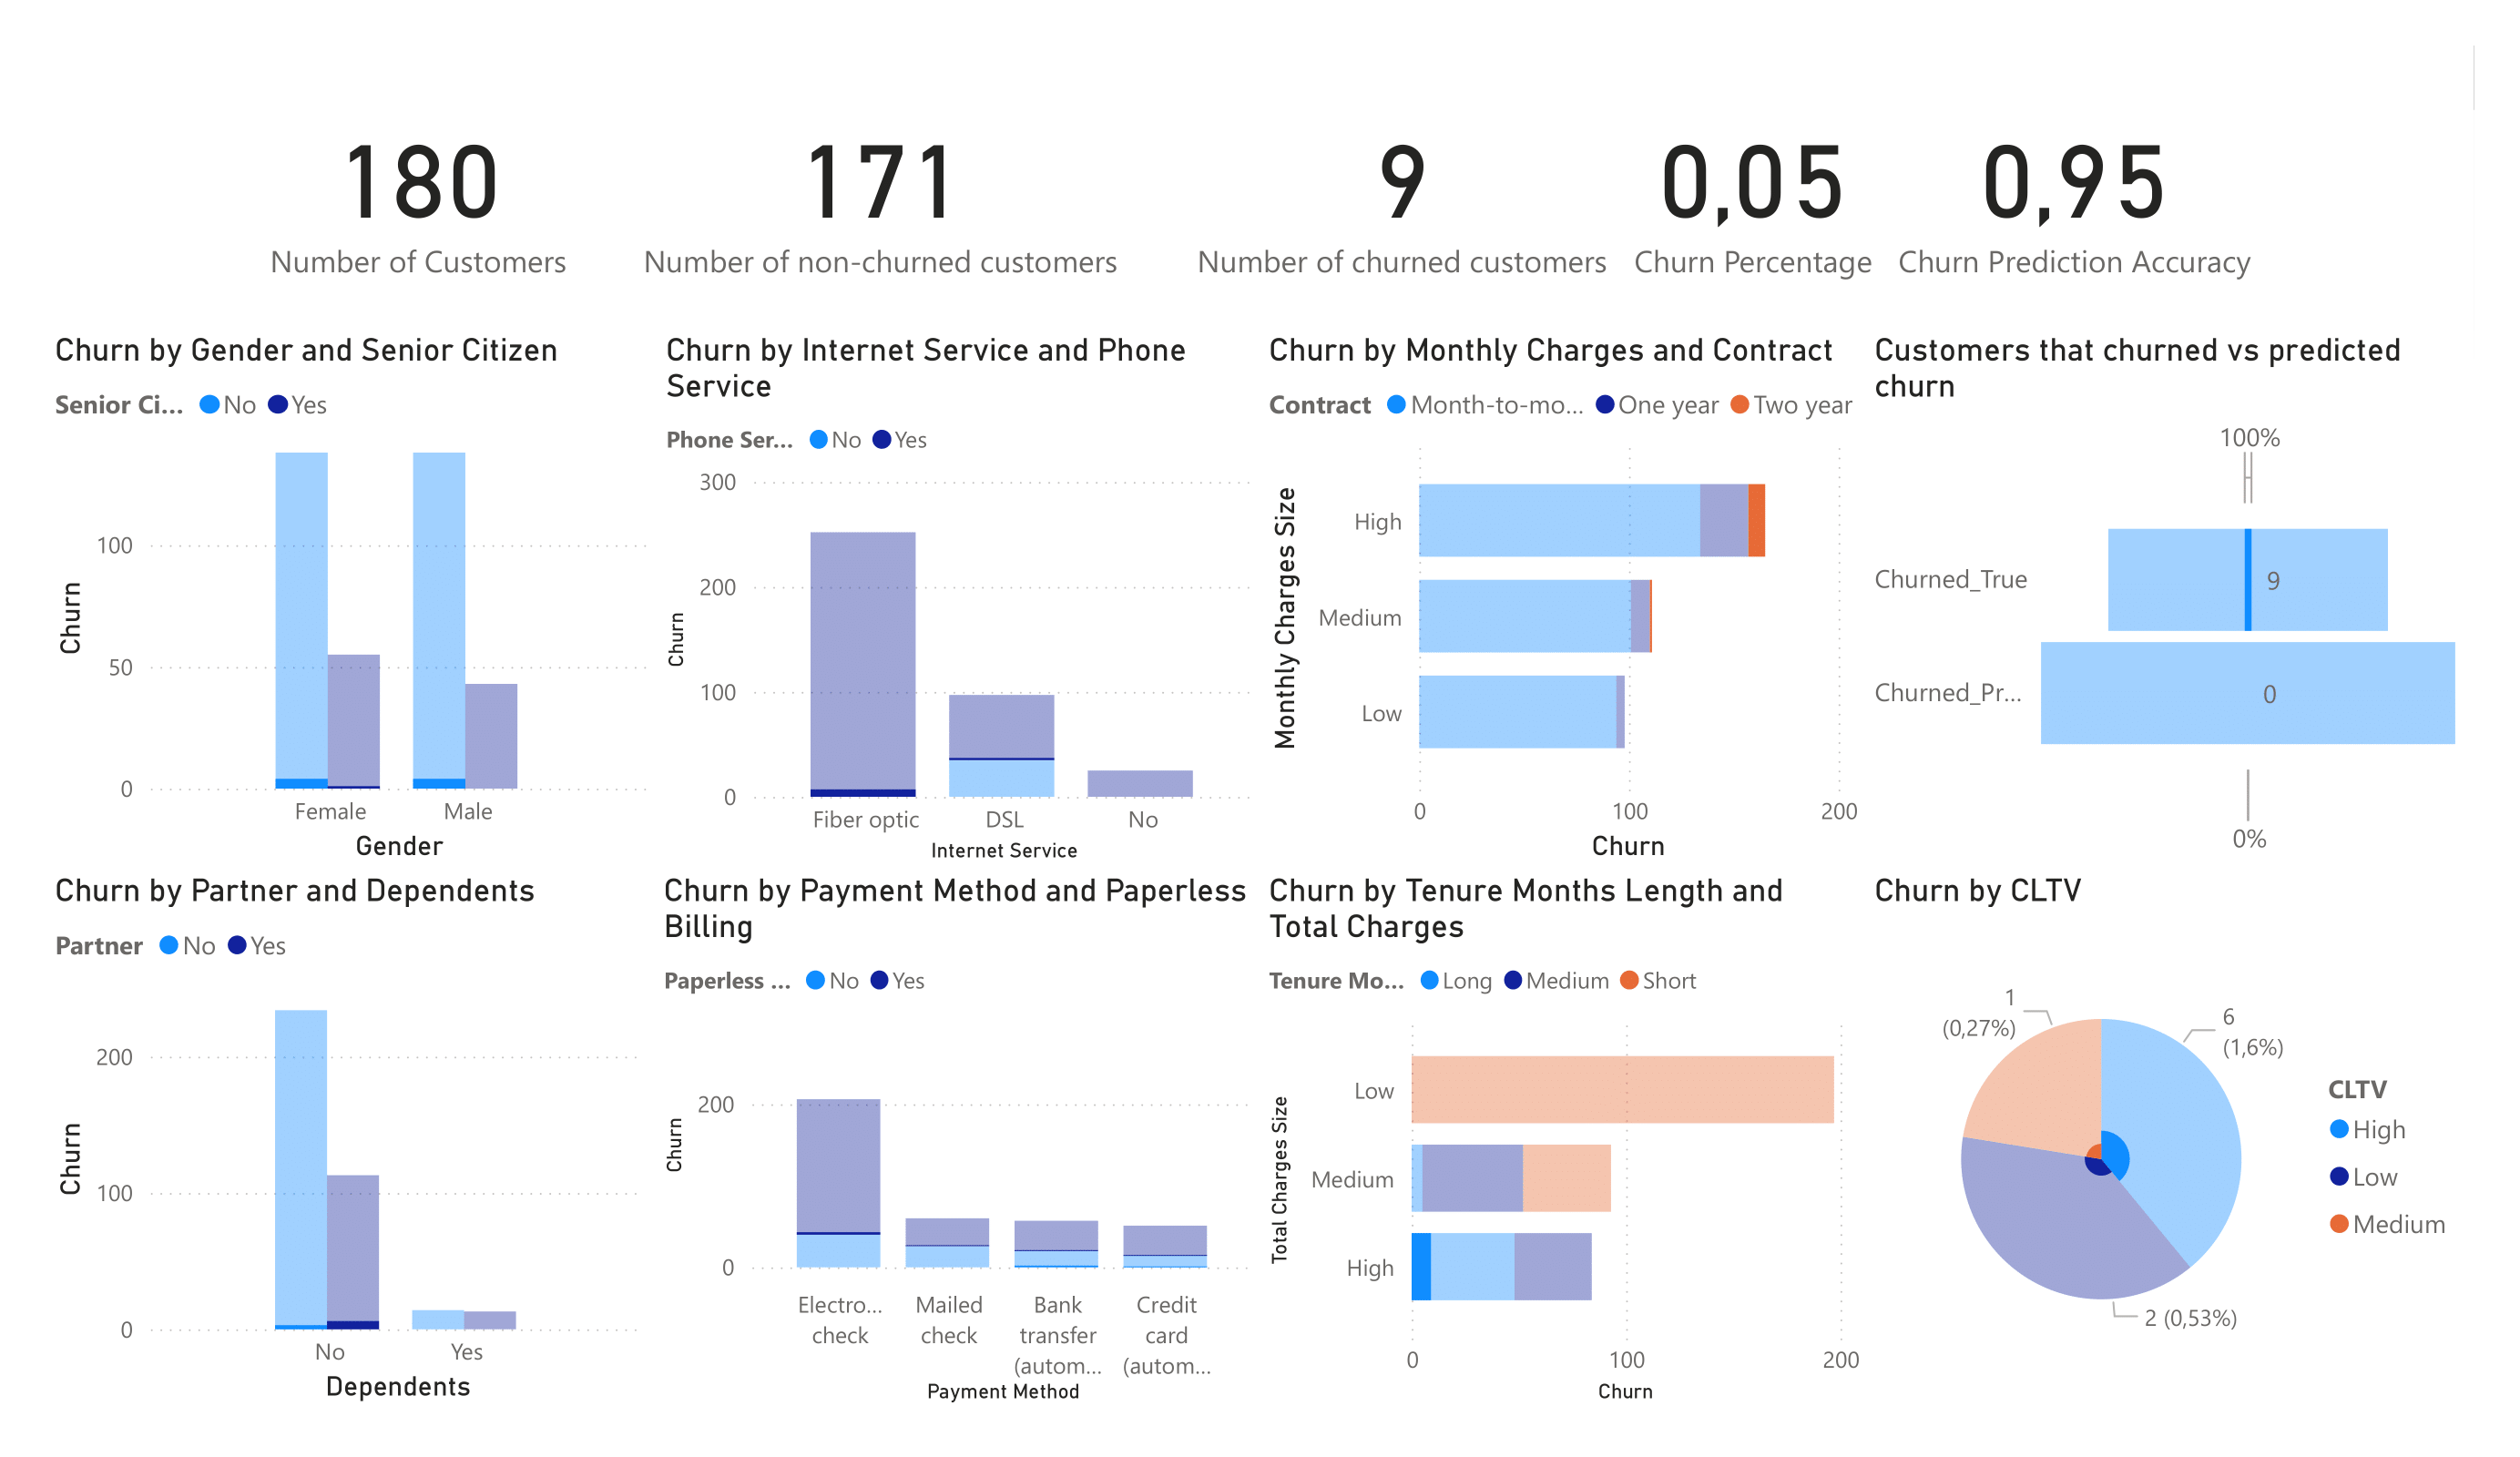

The dashboard page shown, as its layout file describes it:
{"tool":"powerbi","page":{"name":"Side 1","canvas":[1280,720],"ordinal":0},"visuals":[{"type":"card","fields":{"Values":["Avg(Forespørgsel1.y_true)"]},"box":[829.7,0,140.1,149.8],"z":0},{"type":"pieChart","title":"Churn by CLTV","fields":{"Y":["Sum(Attributes.y_true)"],"Category":["Attributes.CLTV Size"]},"box":[959,434.8,321,285],"z":1000},{"type":"card","fields":{"Values":["Attributes.Churn Prediction Accuracy"]},"box":[969.7,0,199.4,149.8],"z":2000},{"type":"barChart","title":"Churn by Tenure Months Length and Total Charges","fields":{"Category":["Attributes.Total Charges Size"],"Series":["Attributes.Tenure Months Length"],"Y":["Sum(Attributes.y_true)"]},"box":[640,434.8,321,285],"z":3000},{"type":"barChart","title":"Churn by Monthly Charges and Contract","fields":{"Category":["Attributes.Monthly Charges Size"],"Y":["Sum(Attributes.y_true)"],"Series":["Attributes.Contract"]},"box":[640,149.8,320,285],"z":4000},{"type":"columnChart","title":"Churn by Payment Method and Paperless Billing","fields":{"Category":["Attributes.Payment Method"],"Y":["Sum(Attributes.y_true)"],"Series":["Attributes.Paperless Billing"]},"box":[321,434.8,321,285],"z":5000},{"type":"columnChart","title":"Churn by Internet Service and Phone Service","fields":{"Category":["Attributes.Internet Service"],"Y":["Sum(Attributes.y_true)"],"Series":["Attributes.Phone Service"]},"box":[321.9,149.8,320,285],"z":6000},{"type":"clusteredColumnChart","title":"Churn by Partner and Dependents","fields":{"Category":["Attributes.Dependents"],"Series":["Attributes.Partner"],"Y":["Sum(Attributes.y_true)"]},"box":[0,434.8,321,285],"z":7000},{"type":"clusteredColumnChart","title":"Churn by Gender and Senior Citizen","fields":{"Category":["Attributes.Gender"],"Series":["Attributes.Senior Citizen"],"Y":["Sum(Attributes.y_true)"]},"box":[0,149.8,321.9,285],"z":8000},{"type":"funnel","title":"Customers that churned vs predicted churn","fields":{"Y":["Sum(Attributes.y_true)","Sum(Attributes.y_pred)"]},"box":[959,149.8,321,285],"z":9000},{"type":"card","fields":{"Values":["CountNonNull(Attributes.y_true)"]},"box":[110.9,0,171.2,149.8],"z":10000},{"type":"card","fields":{"Values":["CountNonNull(Attributes.y_true)"]},"box":[600.1,0,229.5,149.8],"z":11000},{"type":"card","fields":{"Values":["CountNonNull(Attributes.y_true)"]},"box":[280.1,0,320,149.8],"z":12000}]}

Visuals, with their boxes in screenshot pixels (x1, y1, x2, y2):
card - Avg(Forespørgsel1.y_true): [left=1757, top=66, right=2020, bottom=346]
"Churn by CLTV" pieChart: [left=1999, top=880, right=2519, bottom=1413]
card - Attributes.Churn Prediction Accuracy: [left=2019, top=66, right=2392, bottom=346]
"Churn by Tenure Months Length and Total Charges" barChart: [left=1402, top=880, right=2003, bottom=1413]
"Churn by Monthly Charges and Contract" barChart: [left=1402, top=346, right=2001, bottom=880]
"Churn by Payment Method and Paperless Billing" columnChart: [left=804, top=880, right=1405, bottom=1413]
"Churn by Internet Service and Phone Service" columnChart: [left=806, top=346, right=1405, bottom=880]
"Churn by Partner and Dependents" clusteredColumnChart: [left=203, top=880, right=804, bottom=1413]
"Churn by Gender and Senior Citizen" clusteredColumnChart: [left=203, top=346, right=806, bottom=880]
"Customers that churned vs predicted churn" funnel: [left=1999, top=346, right=2519, bottom=880]
card - CountNonNull(Attributes.y_true): [left=411, top=66, right=731, bottom=346]
card - CountNonNull(Attributes.y_true): [left=1327, top=66, right=1757, bottom=346]
card - CountNonNull(Attributes.y_true): [left=728, top=66, right=1327, bottom=346]
